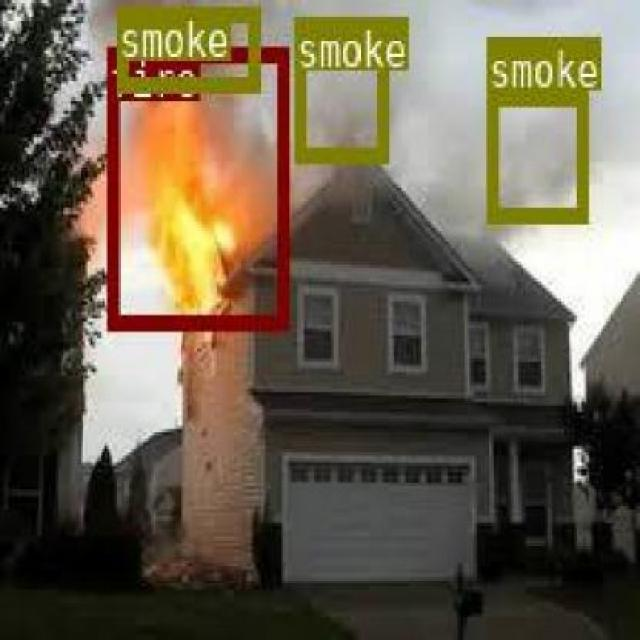Fire: (105, 46, 286, 328)
Smoke: (294, 13, 386, 162), (484, 88, 586, 220), (116, 3, 256, 88)
